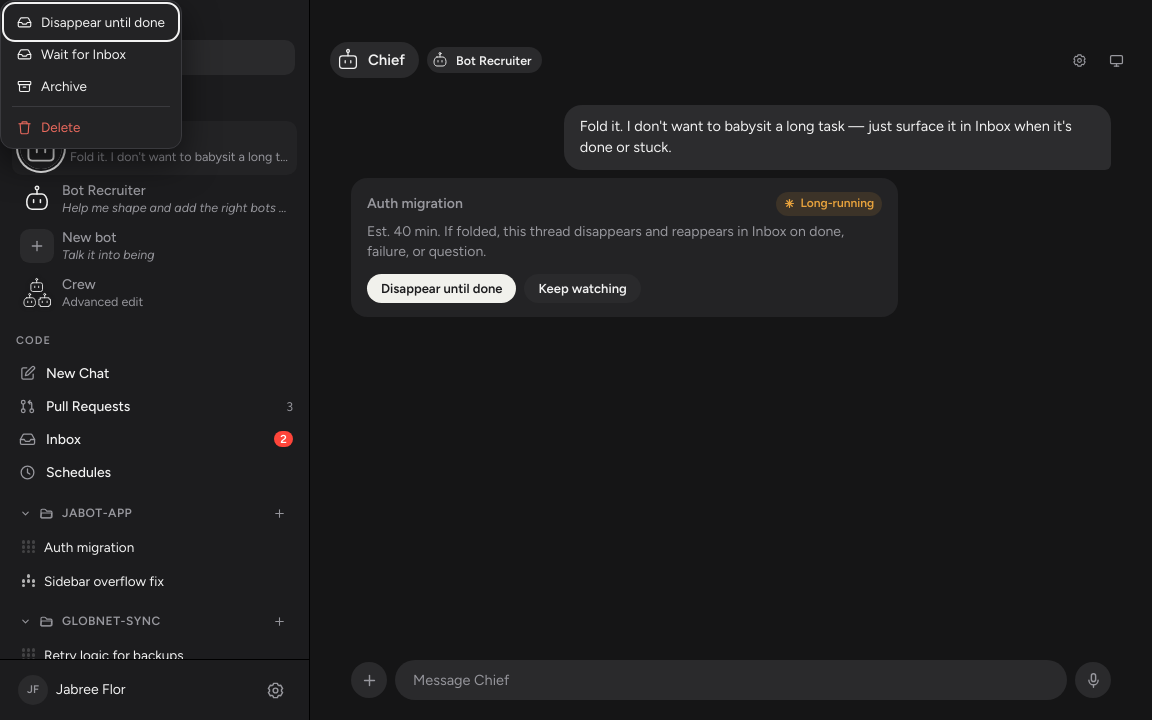
App › folds a thread from its right-click menu
(page scrolled)
expect the button named "Settings" is shown: met, box [259,674,291,706]
What coordinates should you click on to do the following:
click the menu item "Wait for Inbox"
I would click on:
 (91, 54)
Its box is [6,38,176,70].
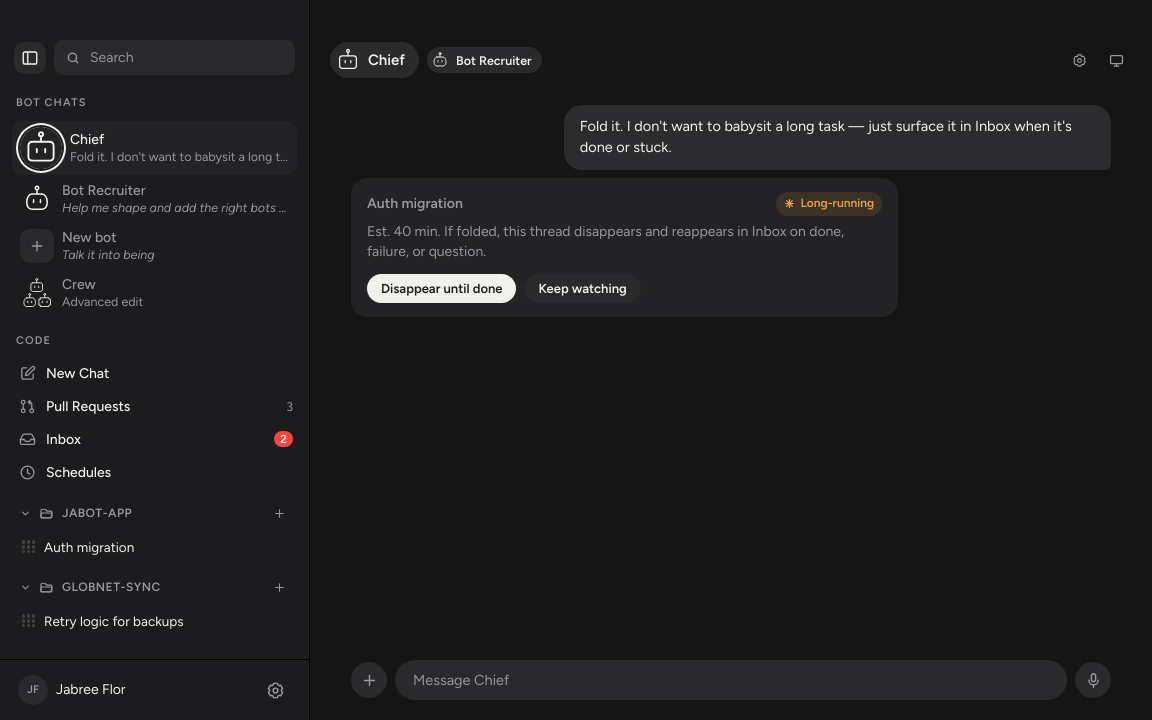
expect the button "Sidebar overflow fix" is gone: met
